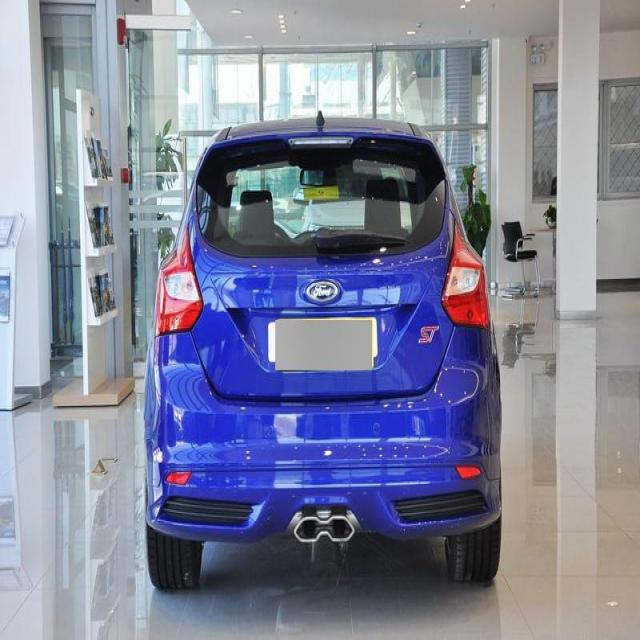back_glass: (196, 142, 447, 260)
back_left_side_light: (154, 221, 204, 338)
back_right_side_light: (441, 219, 492, 328)
rear_bumper: (143, 322, 501, 544)
